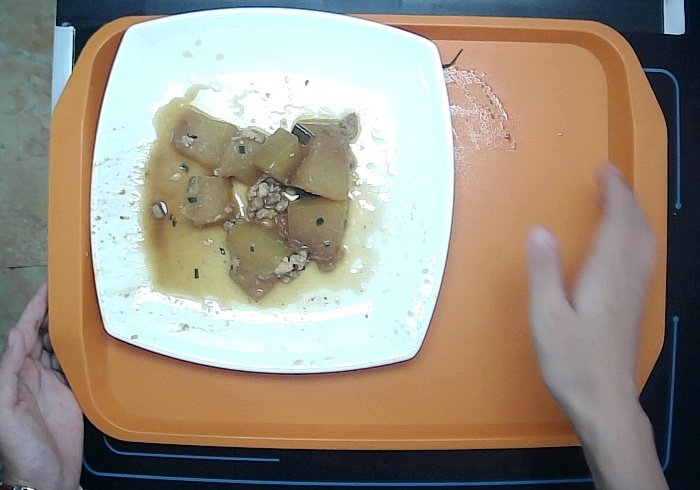ZNLD-Bai_Fang_Pan: (88, 5, 456, 376)
